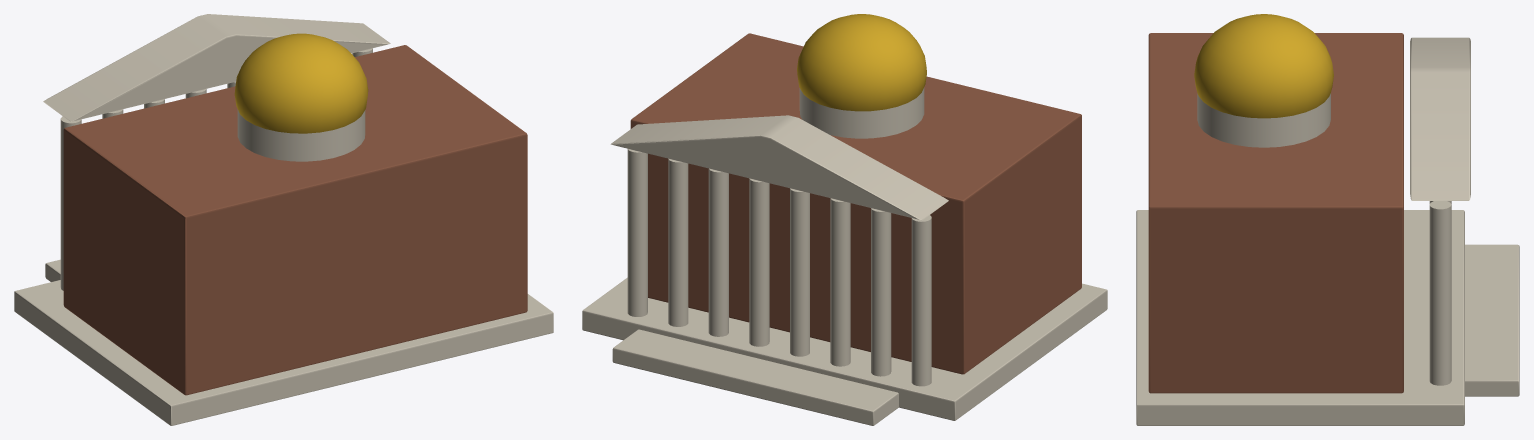
The model's file is civic.glb.
3 views of the same model, side by side, from view 1: azimuth 30°, elevation 25°; view 2: azimuth 150°, elevation 25°; view 3: azimuth 270°, elevation 25° (orthographic). The views are drawn at different scales.
Visible parts, largest first — view 1: part-paint, part-stone, part-dome; view 2: part-stone, part-paint, part-dome; view 3: part-paint, part-stone, part-dome.
Boxes of the visible parts, x1,y1,x2,y2 form: part-paint: [63, 45, 527, 395]; part-stone: [14, 14, 553, 425]; part-dome: [234, 33, 368, 133]; part-stone: [582, 87, 1107, 425]; part-paint: [630, 33, 1081, 374]; part-dome: [797, 14, 926, 111]; part-paint: [1148, 33, 1403, 393]; part-stone: [1136, 37, 1519, 425]; part-dome: [1194, 14, 1333, 118].
Size of the model in its own units: 76 by 55.77 by 63.
